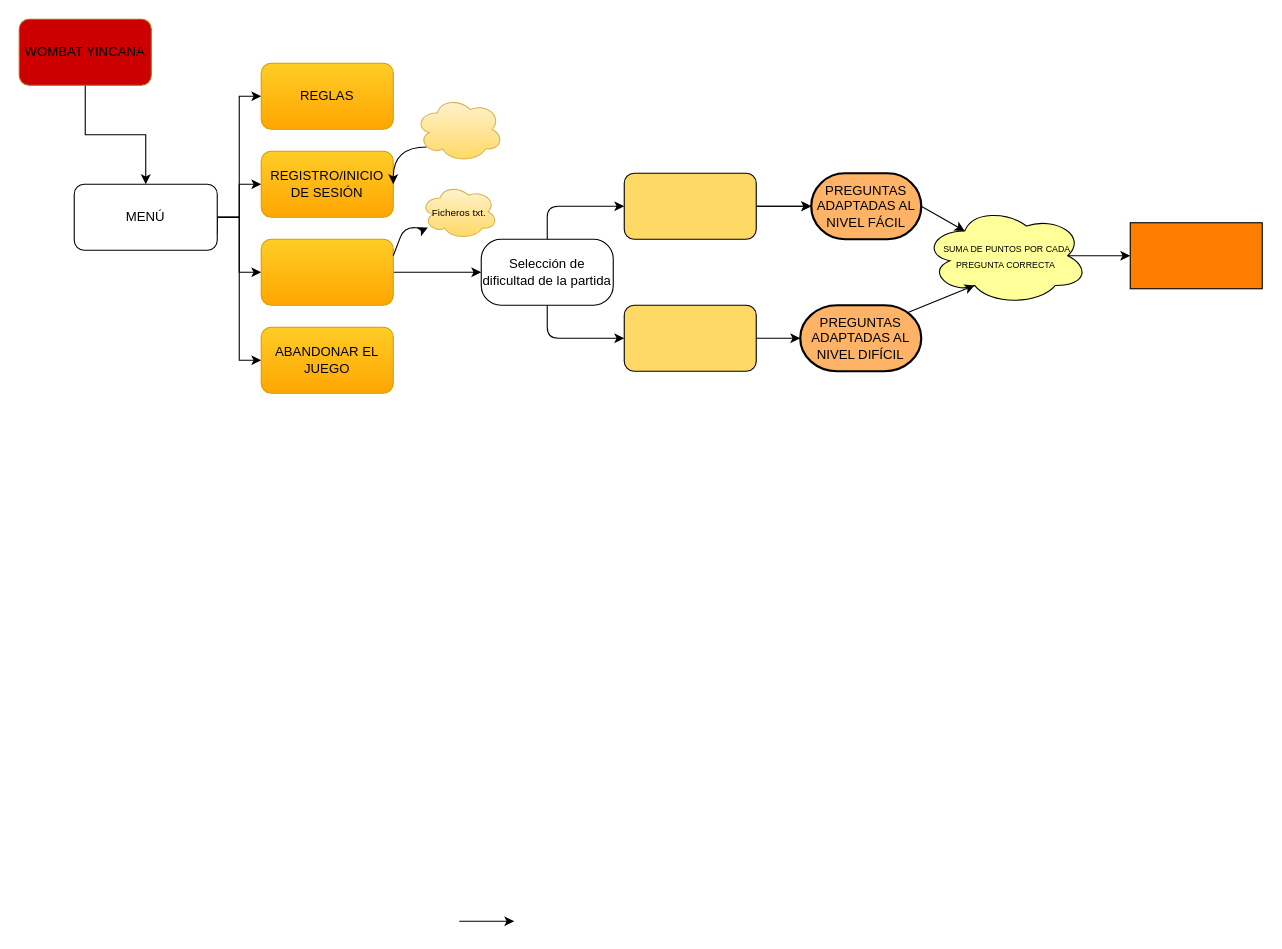
This 1282x949 diagram has some shape labels left out. The centre of each missing label's shape, as x and y in pixels:
"DIFÍCIL" belongs at point (689, 337).
"Ficheros txt ." belongs at point (458, 128).
"FÁCIL" belongs at point (689, 205).
"GANADOR O GANADORES DE LA PARTIDA" belongs at point (1195, 255).
"JUGAR" belongs at point (326, 271).
